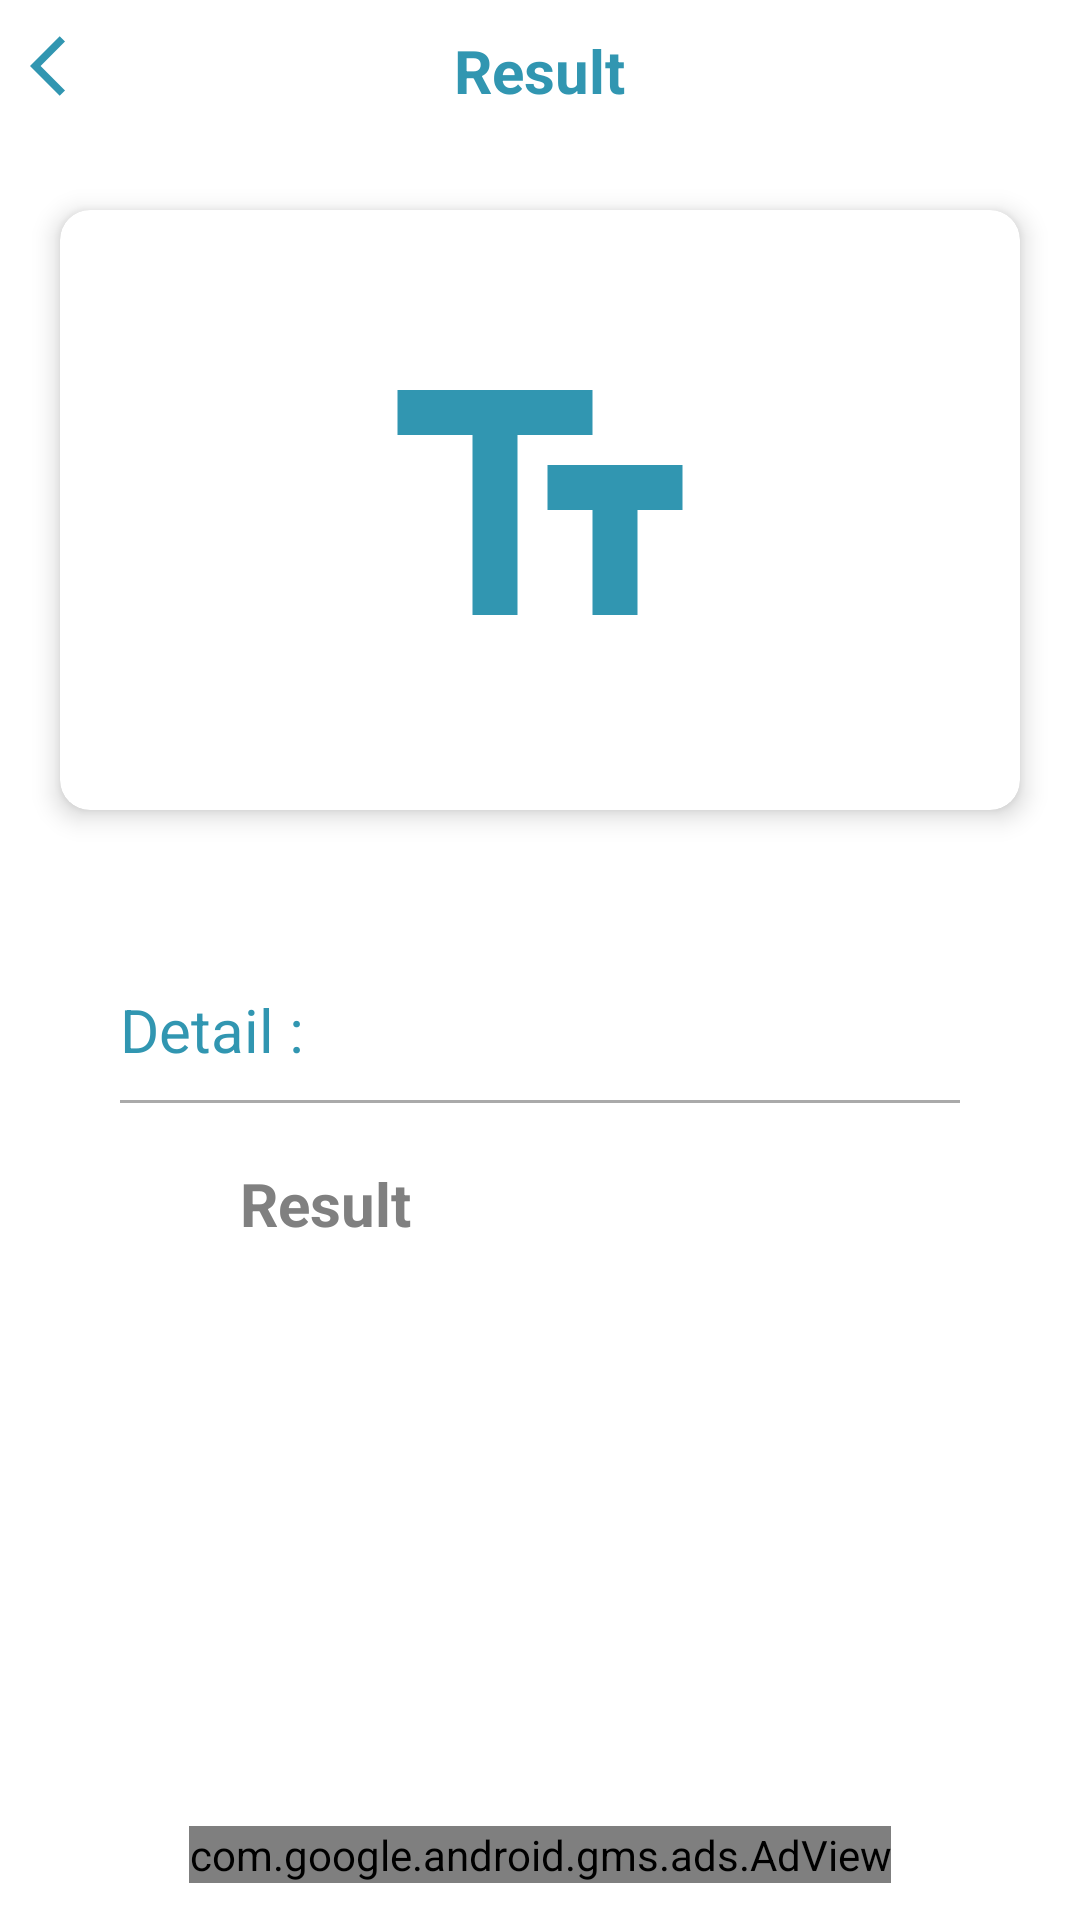

Icons on this 1080x1920 Android screen, each with the point to tap as (x=x, y=y):
arrow back: (x=47, y=66)
text fields: (x=540, y=502)
